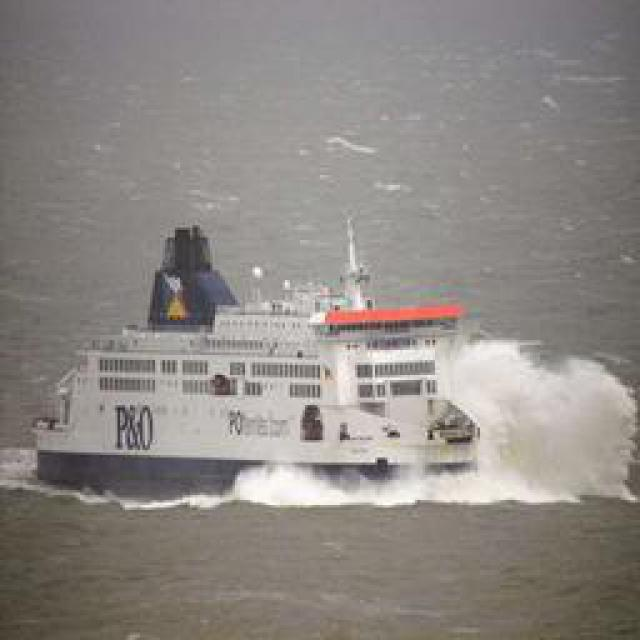Ship: (29, 203, 494, 491)
